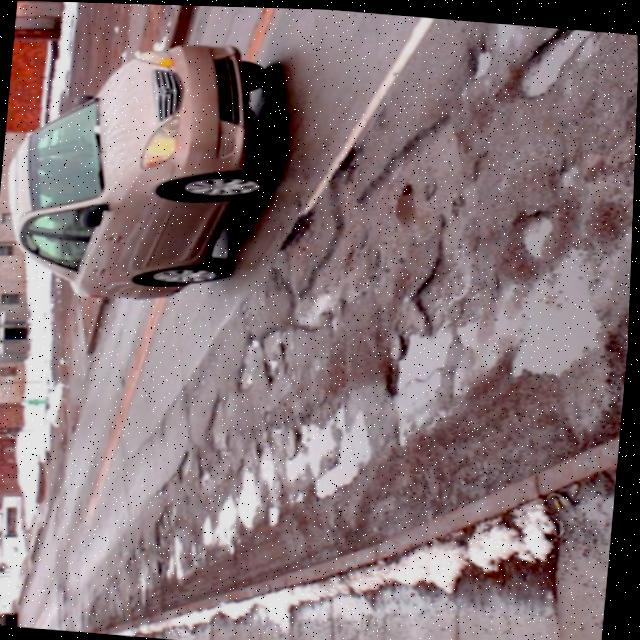Pothole: (480, 240, 628, 382), (494, 21, 616, 113), (382, 307, 464, 393), (309, 417, 382, 498), (190, 390, 256, 464), (504, 203, 568, 257), (375, 173, 430, 235), (290, 283, 352, 331), (225, 465, 270, 528), (451, 38, 500, 83), (158, 532, 192, 579), (278, 444, 317, 480), (540, 160, 584, 187), (224, 360, 262, 389), (194, 515, 224, 547), (191, 466, 221, 489), (262, 355, 287, 378)
